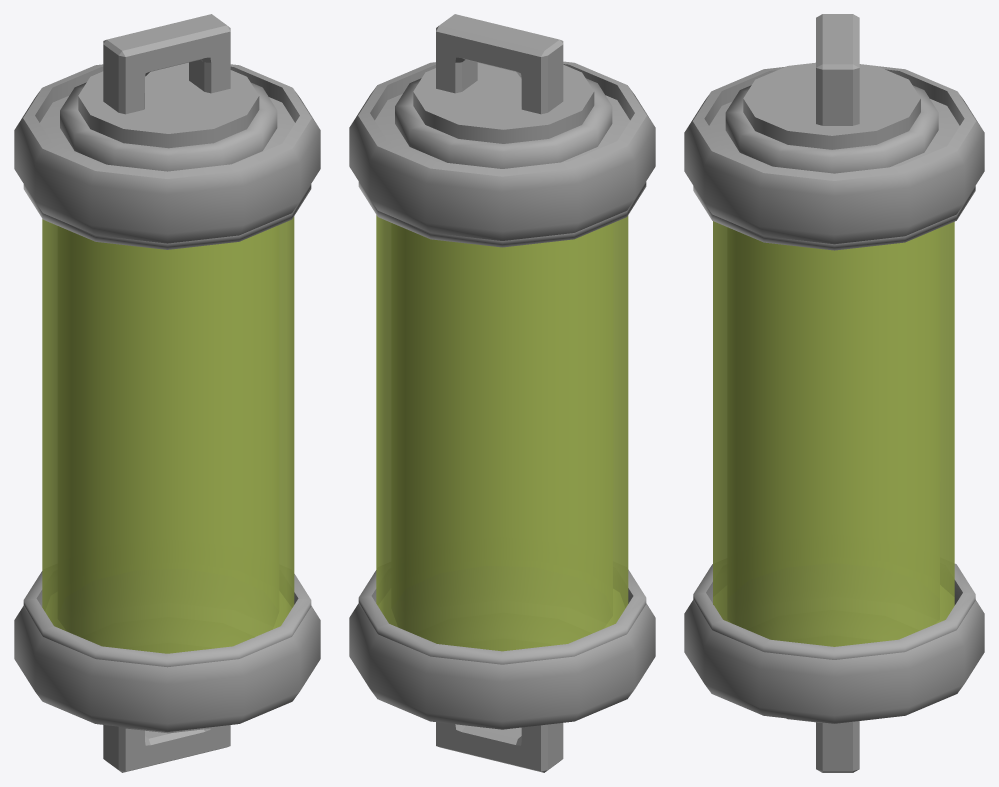
Rendered from PickUp_ToxicContainer.fbx.
3 views of the same model, side by side, from view 1: azimuth 30°, elevation 25°; view 2: azimuth 150°, elevation 25°; view 3: azimuth 270°, elevation 25° (orthographic).
Visible parts, largest first — view 1: pCube8; view 2: pCube8; view 3: pCube8.
Part boxes in pixels (x1=…): pCube8: x1=14, y1=14, x2=320, y2=772; pCube8: x1=349, y1=14, x2=655, y2=772; pCube8: x1=684, y1=14, x2=984, y2=772.
Bounding box in the file's own units: 0.4787 × 1.25 × 0.4787.
